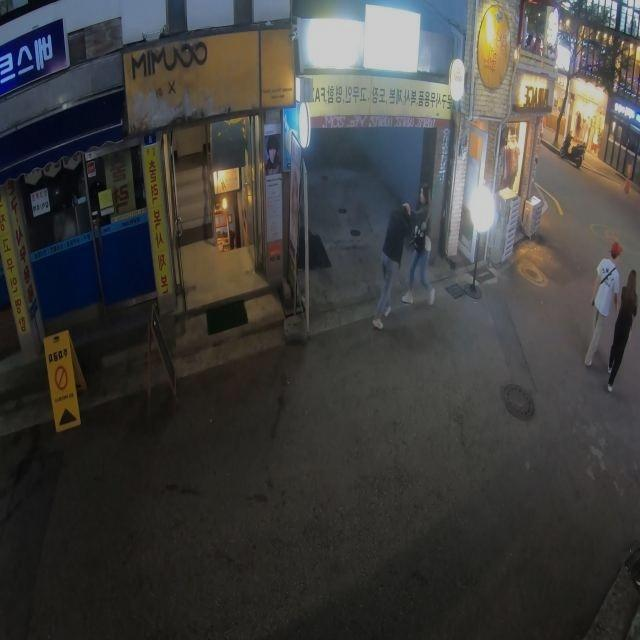fight: (370, 185, 437, 333)
non-fight: (602, 265, 639, 393)
